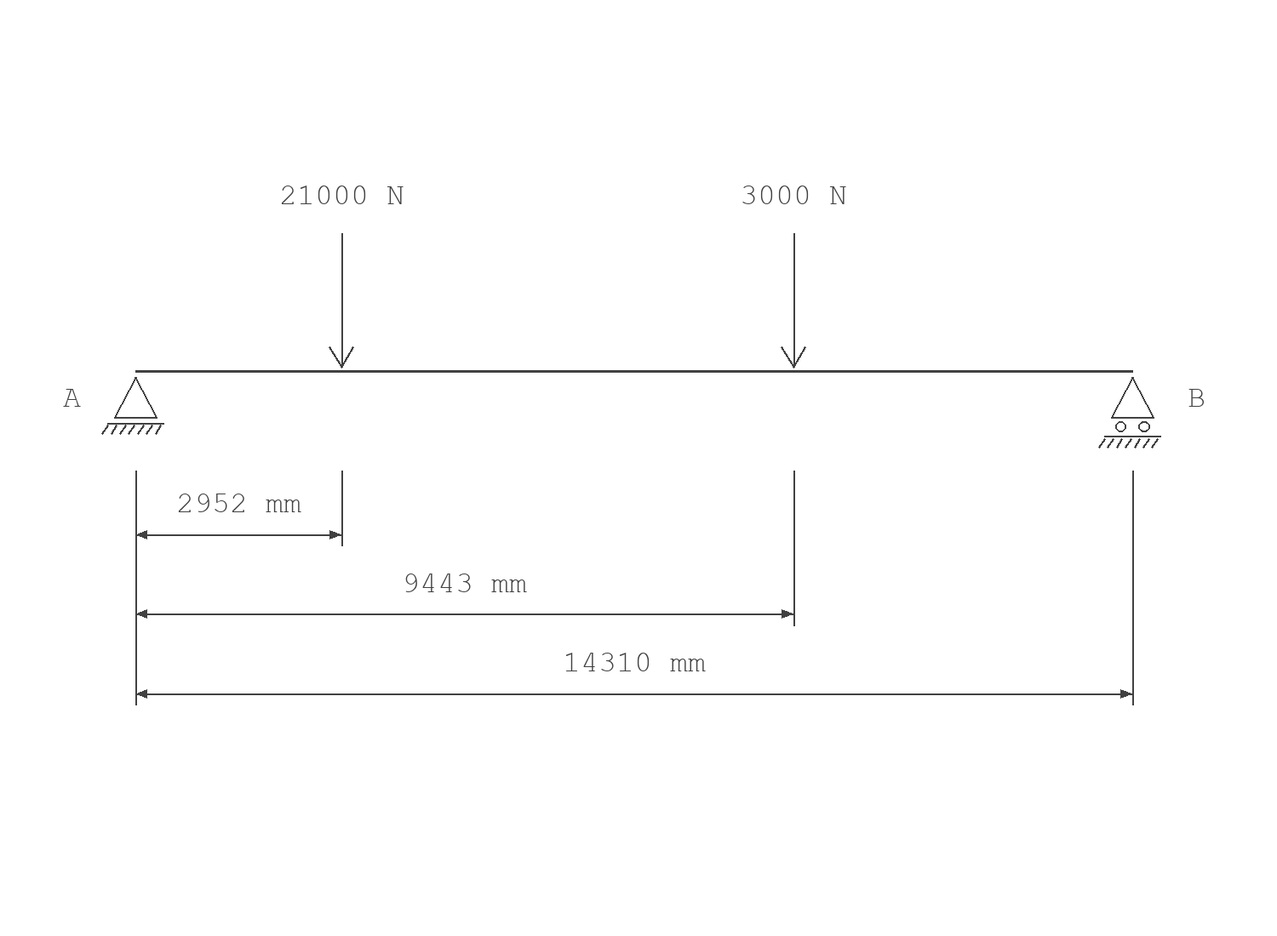pin_support: (101, 377, 164, 435)
point_load: (329, 233, 354, 368), (781, 233, 806, 368)
roller_support: (1098, 377, 1161, 448)
